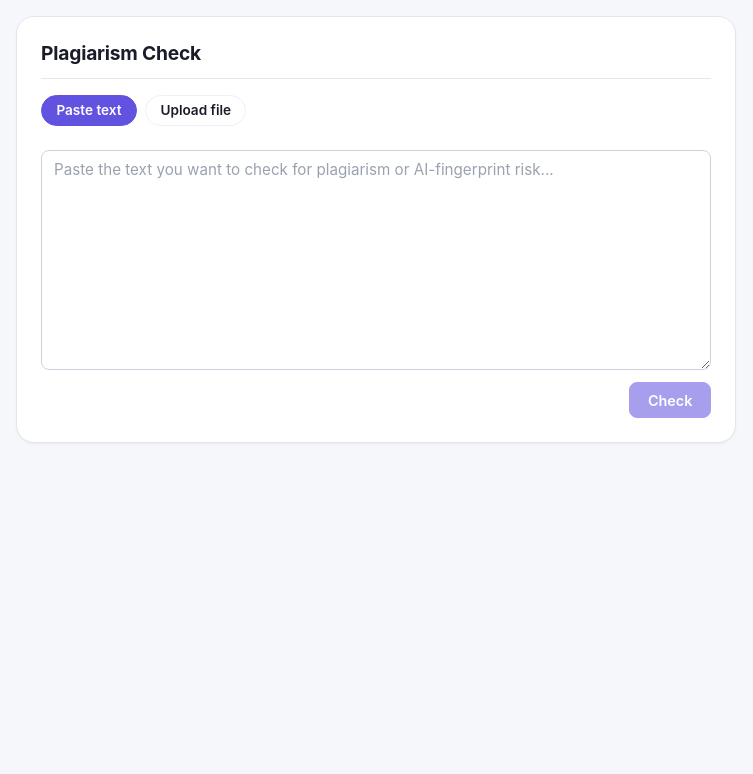
Test case: PlagiarismCheckPanel › shows a flagged banner and reasons distinctly when flagged is true
The image size is (753, 774).
Replace the text in the text box labelled "Paste the text you want to check for plagiarism or AI-fingerprint risk..." with "Some suspicious text". click: (376, 260)
box: [41,150,711,370]
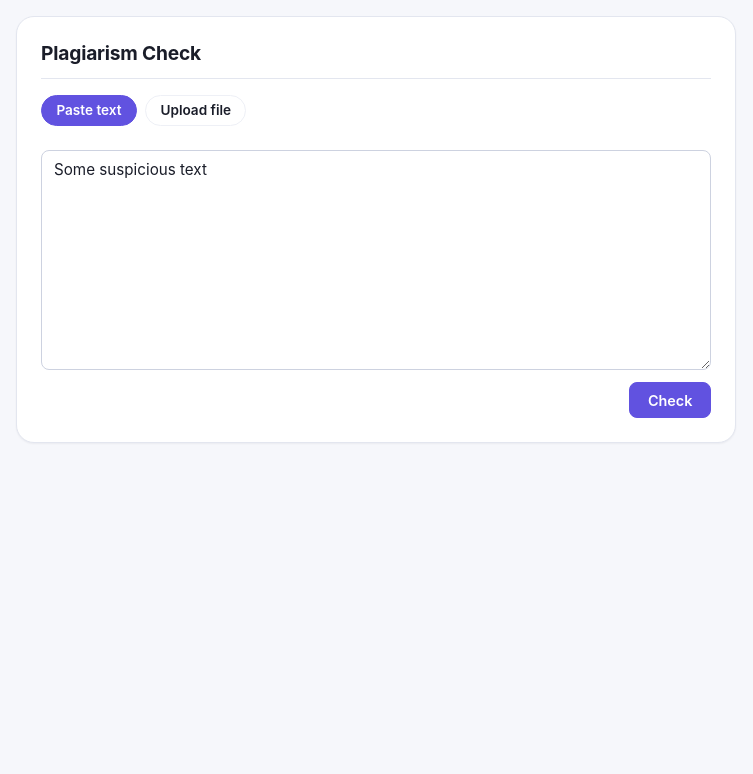
Click the button "Check". click: (670, 400)
box: [629,382,711,418]
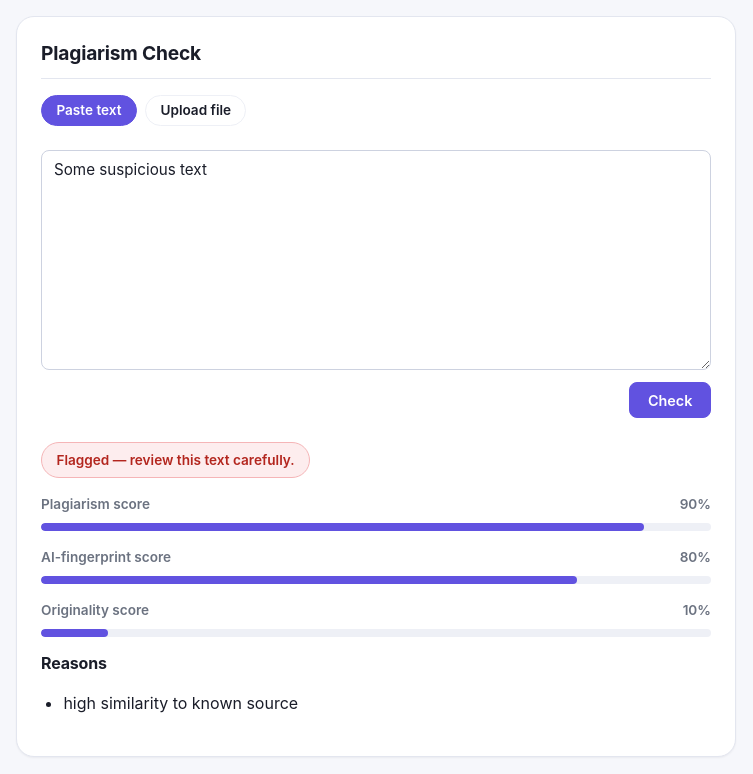
Now the text "Flagged — review this text carefully." is shown, box [41,442,310,478]
Now the list item "high similarity to known source" is shown, box [63,693,298,713]
